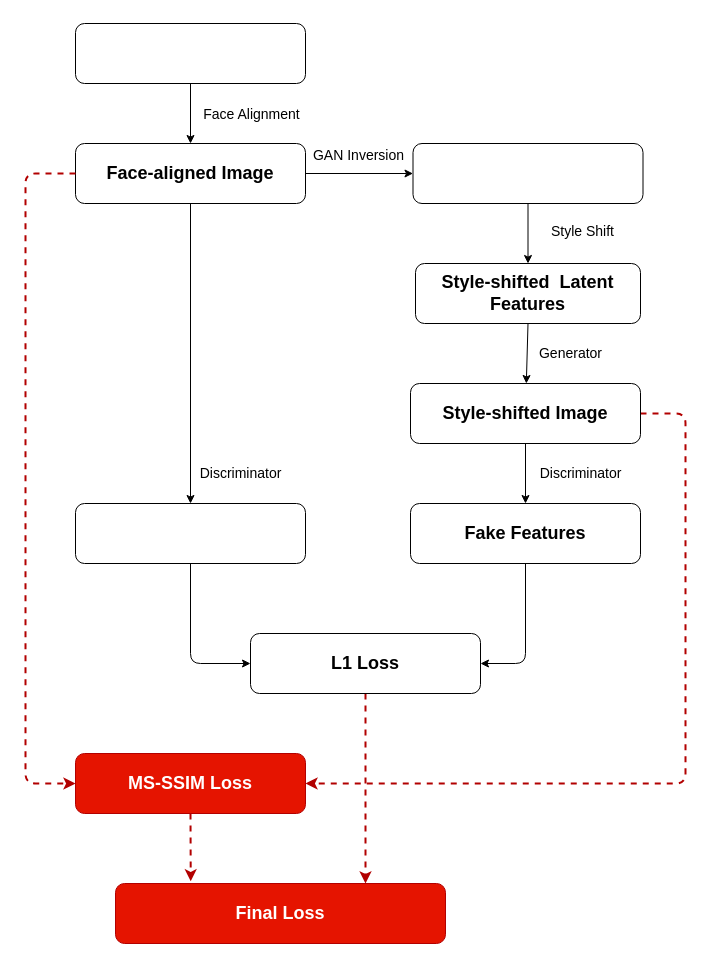
This 711x961 diagram has some shape labels left out. Here are the shapes that lost their labels. From the top down, the box of each, then its label:
(74, 22, 306, 84): Raw Reference Face Image
(412, 142, 643, 204): Latent Features
(74, 502, 306, 564): Real Features
